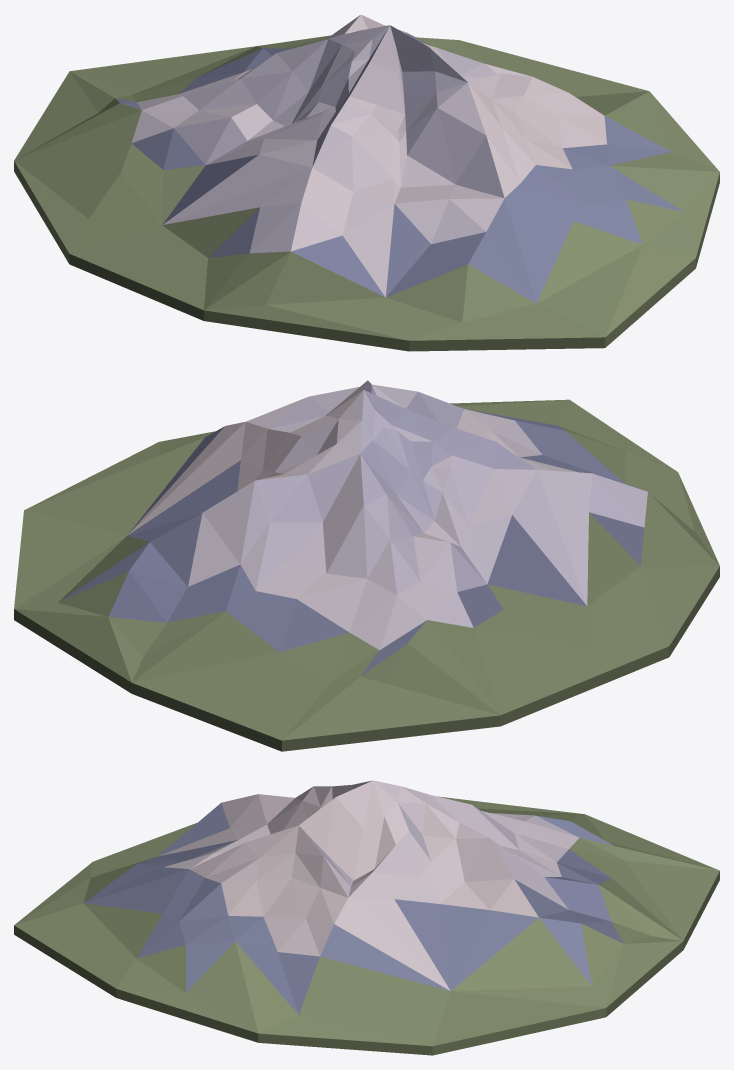
The model's file is massif_west_spur.glb.
3 renders of one model, top to bottom at view 1: azimuth 30°, elevation 25°; view 2: azimuth 150°, elevation 25°; view 3: azimuth 270°, elevation 25°, orthographic. The views are drawn at different scales.
Parts seen in each view (by area): view 1: massif_west_spur; view 2: massif_west_spur; view 3: massif_west_spur.
Boxes of the visible parts, <box> form: massif_west_spur: <box>14,14,719,351</box>; massif_west_spur: <box>14,380,719,751</box>; massif_west_spur: <box>14,780,719,1055</box>.
Size of the model in its own units: 598 by 165 by 700.
